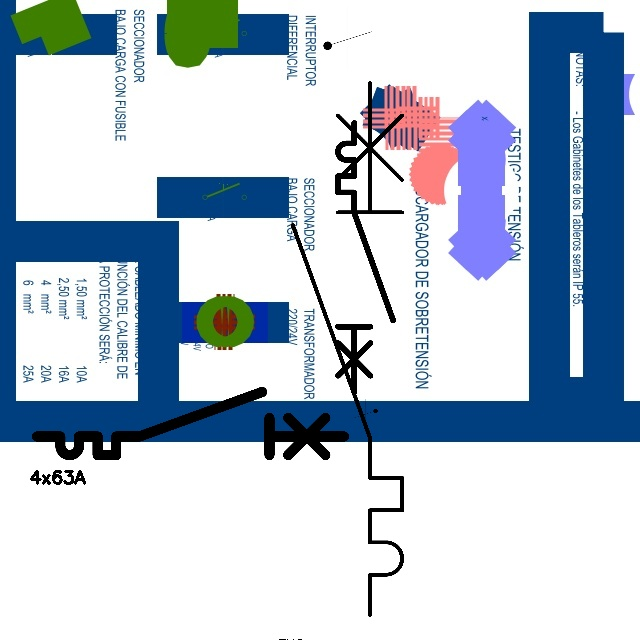interruptor_termomagnetico: (279, 69, 416, 628), (29, 384, 352, 463), (331, 116, 400, 399)
